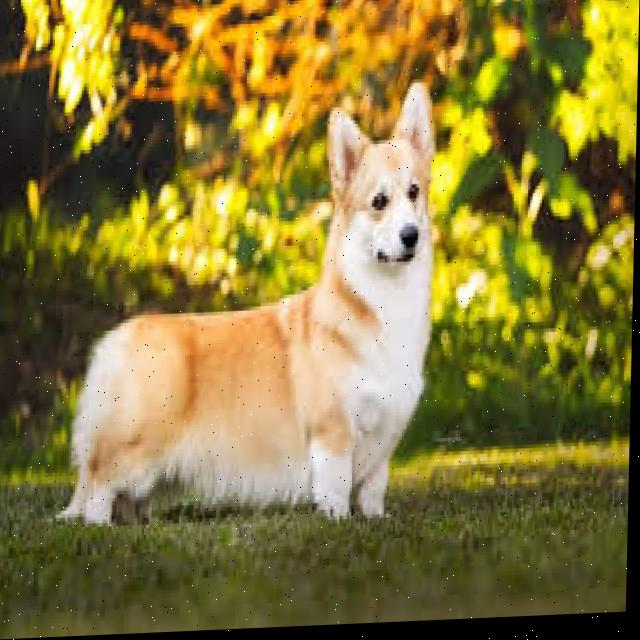CORGI: (53, 85, 468, 573)
